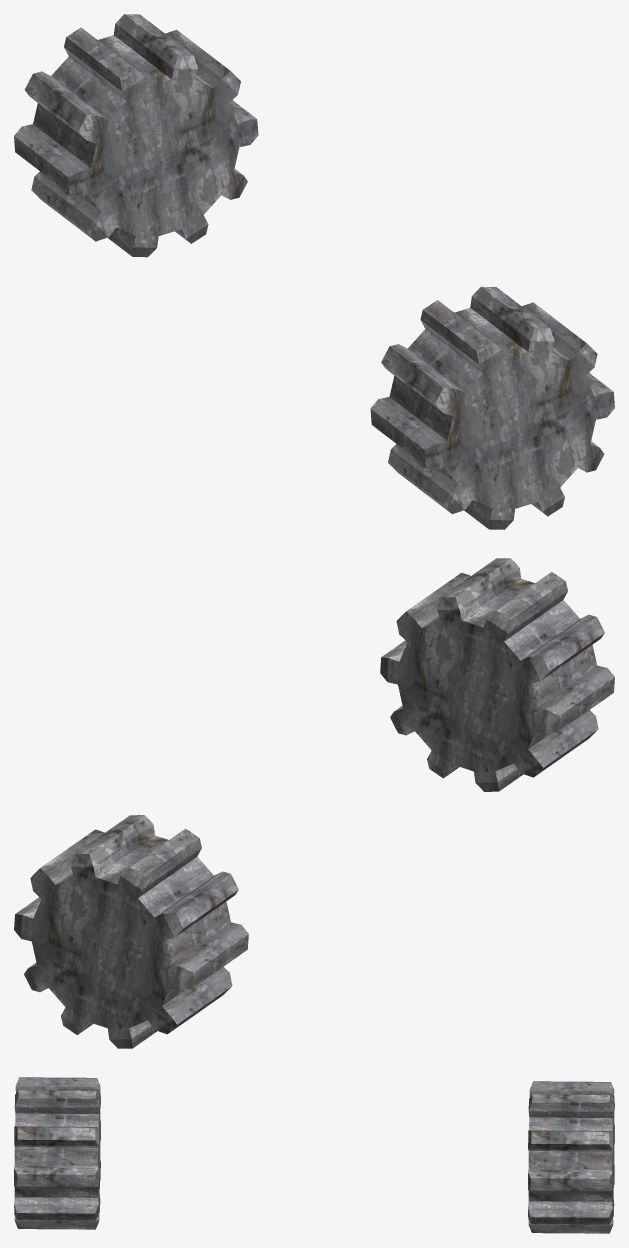
Rendered from Monolithic_Gears_Connector.FBX.
3 views of the same model, one above another, from view 1: azimuth 30°, elevation 25°; view 2: azimuth 150°, elevation 25°; view 3: azimuth 270°, elevation 25° (orthographic). The views are drawn at different scales.
Parts seen in each view (by area): view 1: Monolithic_Screw_Connector03; view 2: Monolithic_Screw_Connector03; view 3: Monolithic_Screw_Connector03.
Part boxes in pixels (x1,y1,x2,y2): Monolithic_Screw_Connector03: [14, 14, 614, 529]; Monolithic_Screw_Connector03: [14, 558, 614, 1048]; Monolithic_Screw_Connector03: [14, 1077, 614, 1233].
Bounding box in the file's own units: 271 × 249 × 1000.
